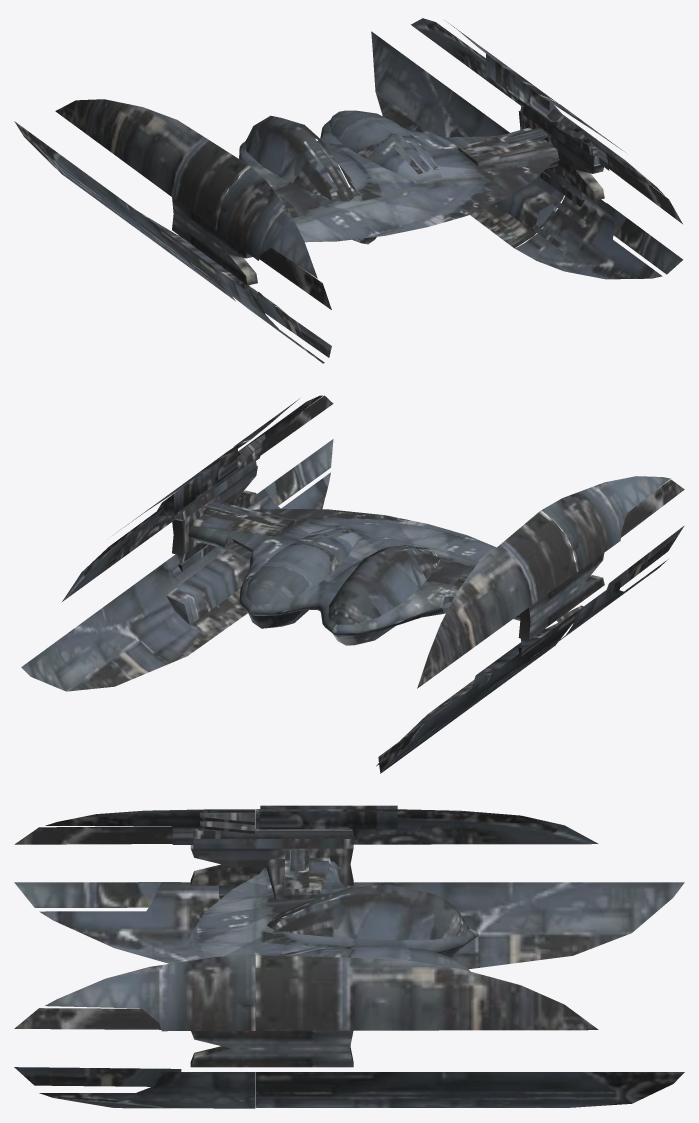
The model's file is hyena.far.glb.
The picture shows the model from 3 angles, top to bottom: view 1: azimuth 30°, elevation 25°; view 2: azimuth 150°, elevation 25°; view 3: azimuth 270°, elevation 25°; orthographic projection. The views are drawn at different scales.
Size of the model in its own units: 8.13 by 3.27 by 12.07.
Materials: 2 (2 with a texture image).
